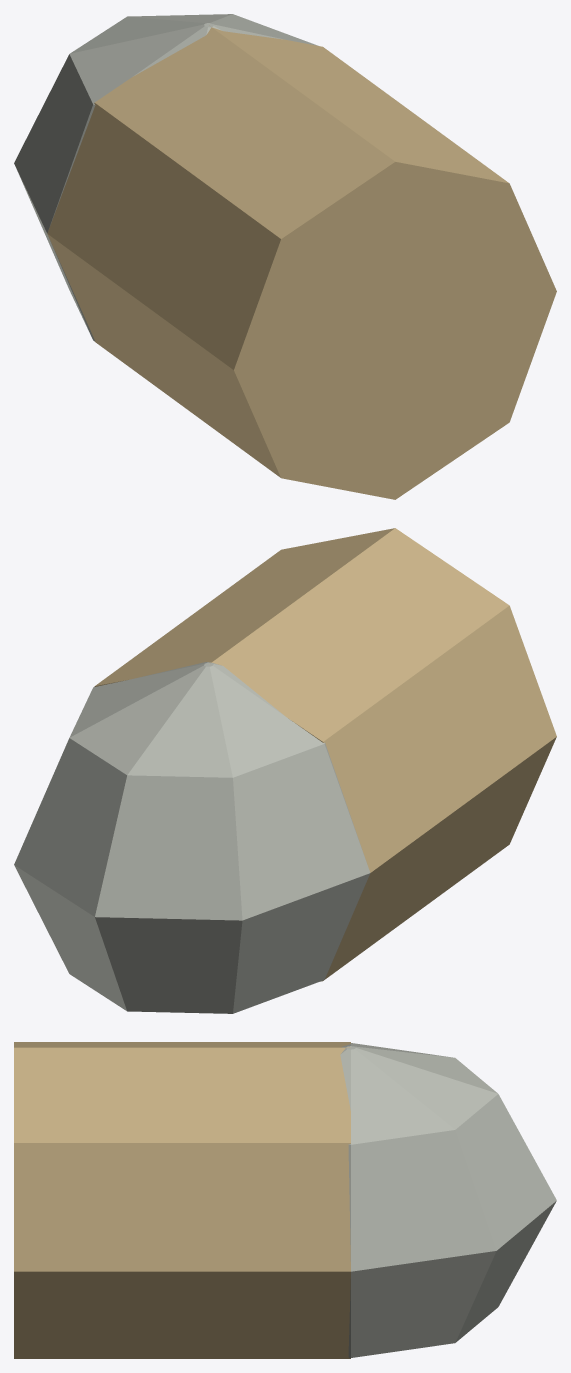
The model's file is Bullet.fbx.
3 renders of one model, top to bottom at view 1: azimuth 30°, elevation 25°; view 2: azimuth 150°, elevation 25°; view 3: azimuth 270°, elevation 25°, orthographic. The views are drawn at different scales.
Parts seen in each view (by area): view 1: Body__Brass, Body__WornSteel; view 2: Body__WornSteel, Body__Brass; view 3: Body__Brass, Body__WornSteel.
Boxes of the visible parts, left/top/right/bottom form: Body__Brass: left=47, top=25, right=556, bottom=499; Body__WornSteel: left=14, top=14, right=318, bottom=340; Body__WornSteel: left=14, top=662, right=370, bottom=1013; Body__Brass: left=94, top=528, right=556, bottom=981; Body__Brass: left=14, top=1042, right=350, bottom=1358; Body__WornSteel: left=340, top=1043, right=556, bottom=1357.
Size of the model in its own units: 0.009 by 0.009 by 0.0145.
